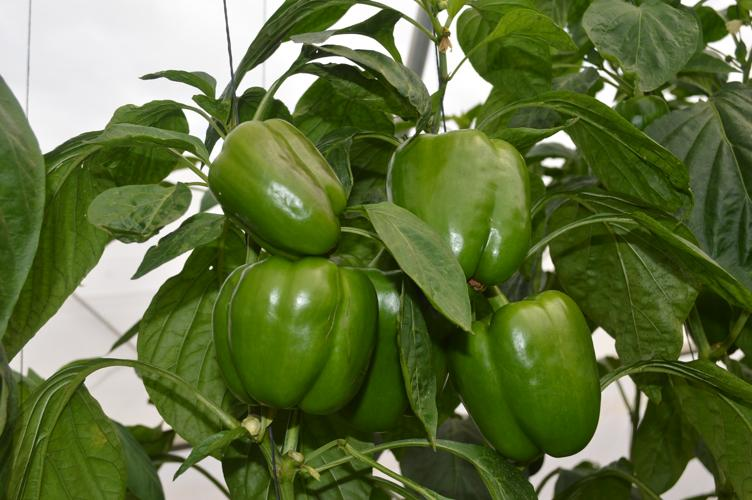BellPepper: (453, 288, 604, 460), (221, 263, 376, 414), (388, 128, 533, 285), (211, 117, 346, 259), (348, 270, 446, 432)
